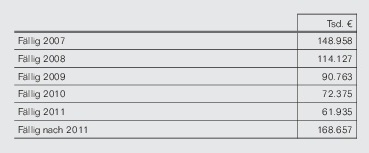table: (0, 0, 369, 153)
